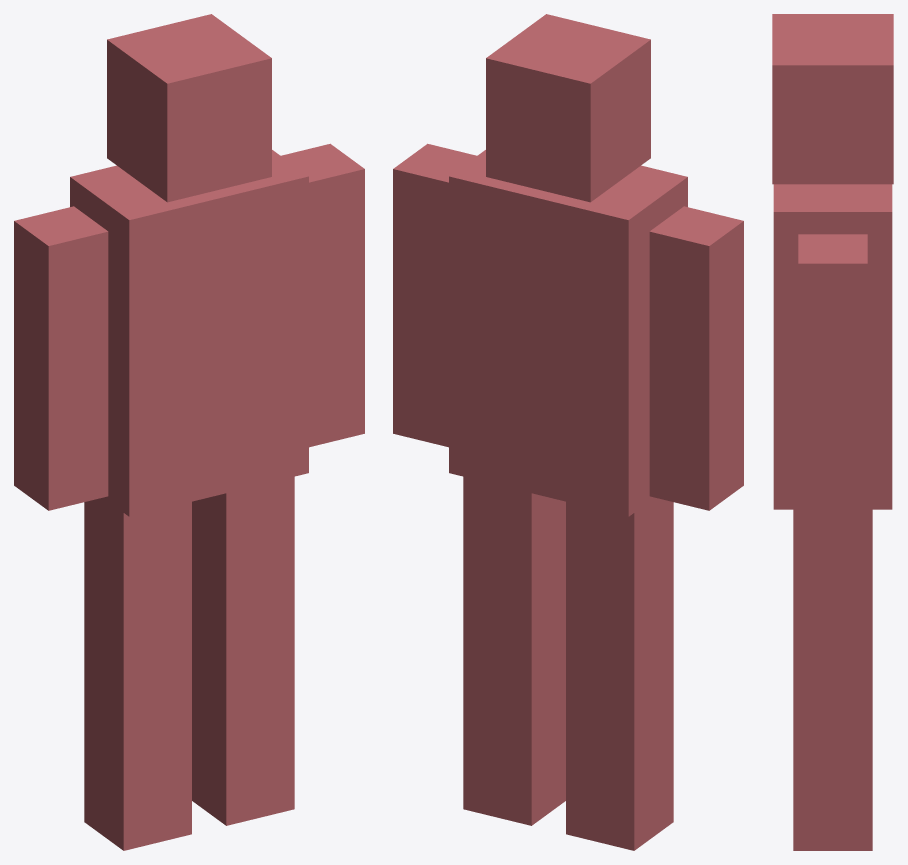
Rendered from dragon_cultist.glb.
3 views of the same model, side by side, from view 1: azimuth 30°, elevation 25°; view 2: azimuth 150°, elevation 25°; view 3: azimuth 270°, elevation 25° (orthographic).
Parts seen in each view (by area): view 1: dragon_cultist; view 2: dragon_cultist; view 3: dragon_cultist.
Boxes of the visible parts, box(x1,y1,x2,y2) form: dragon_cultist: box(14, 14, 364, 850); dragon_cultist: box(393, 14, 743, 850); dragon_cultist: box(772, 14, 893, 850).
Size of the model in its own units: 0.7252 by 1.68 by 0.24.
